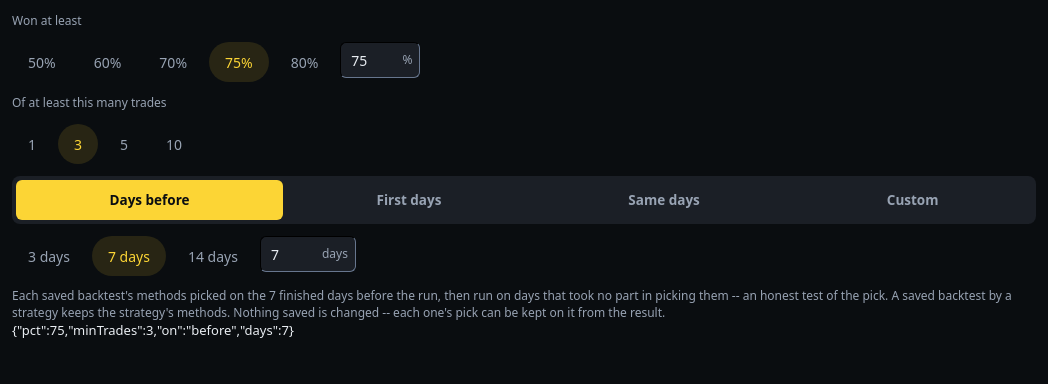
Scenario: Methods by win %, for the run › [critical] a rate, least trades, and the days picked on -- the days before by default, the run's own warned of
Expected: the text "picked on the 7 finished days before the run, then run on days that took no part" is shown, [12,287,888,304]
Click the button "60%" at (108,62), box [78,42,137,82]
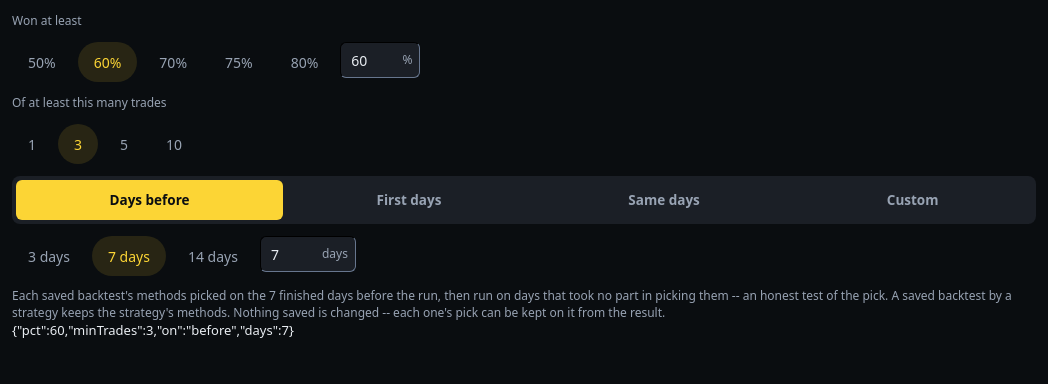
Click the button "14 days" at (213,256), box [172,236,254,276]
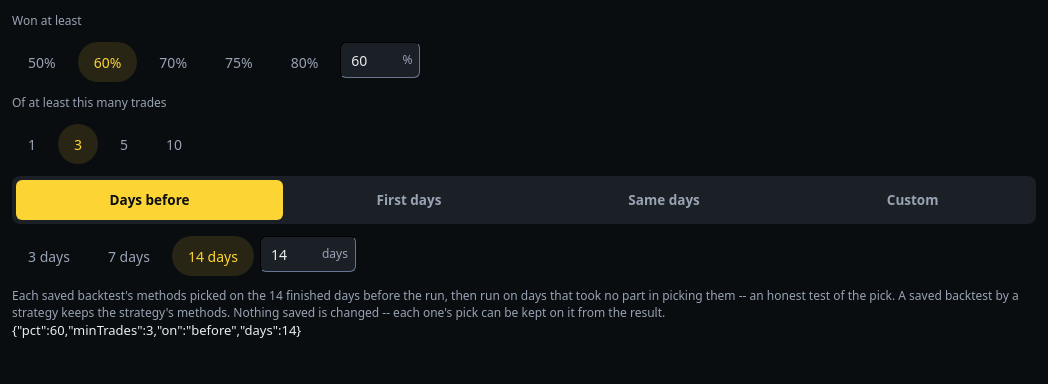
Click the button "1" at (32,144), box [12,124,52,164]
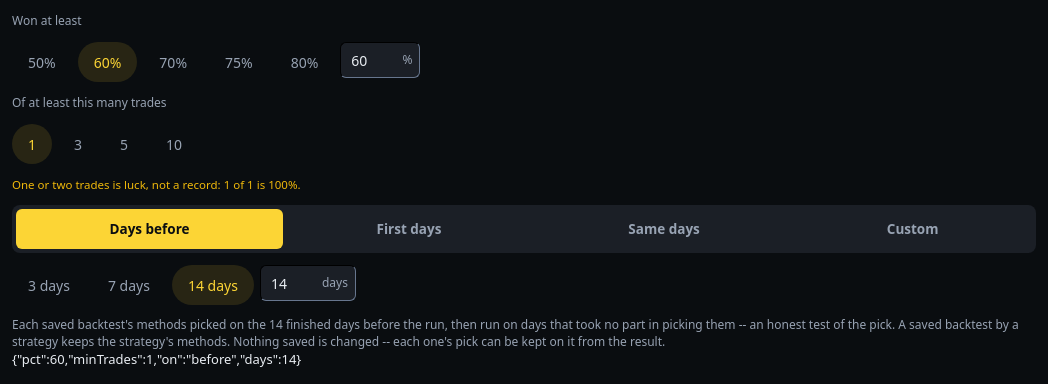
Expected: the text "One or two trades is luck, not a record: 1 of 1 is 100%." is shown, [12,177,300,192]
Click the radio button with aria-label "run's own days" at (664,229), box [535,209,793,249]
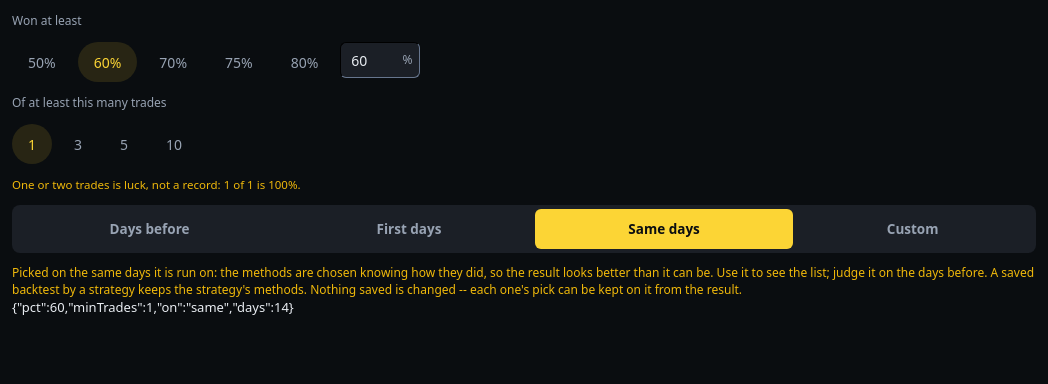
Expected: the text "the result looks better than it can be" is shown, [12,264,987,281]
